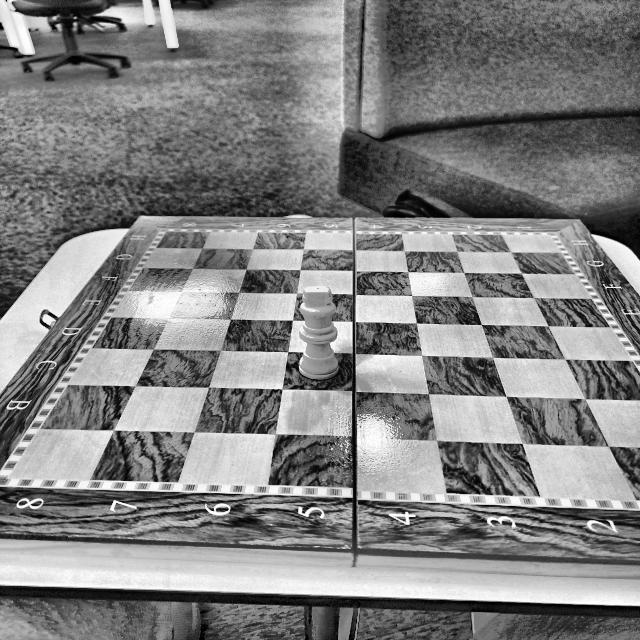white-king: (299, 287, 340, 380)
